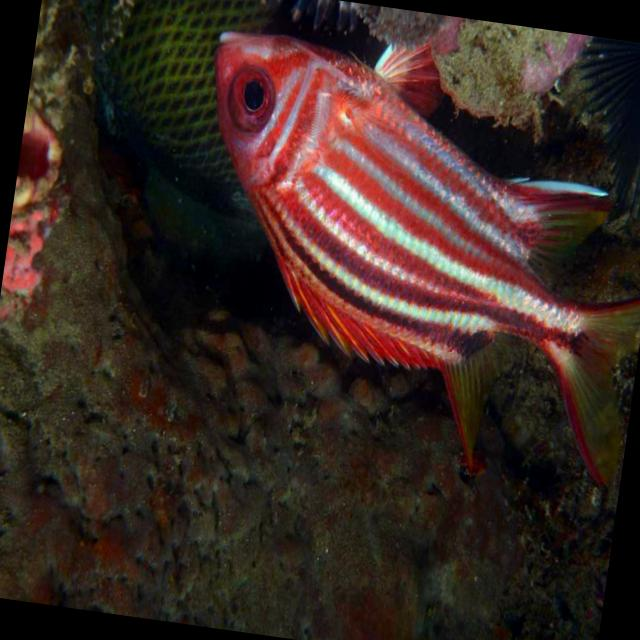Asker Baligi: (145, 0, 640, 524)
